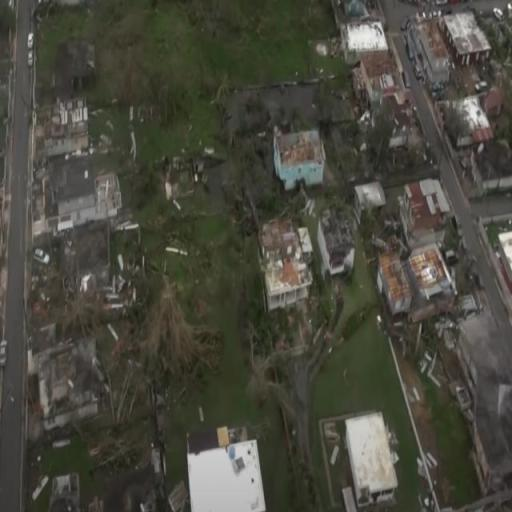house: (183, 426, 279, 512), (338, 406, 402, 511), (52, 158, 122, 240), (260, 211, 312, 312), (350, 55, 398, 121), (407, 242, 453, 309), (276, 124, 322, 189), (402, 179, 445, 238), (342, 8, 388, 62), (448, 13, 492, 67), (351, 179, 387, 223), (462, 98, 494, 144)
